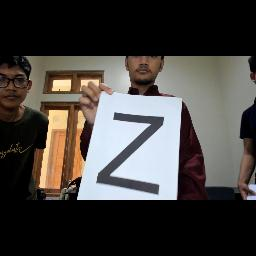z: (94, 110, 166, 200)
